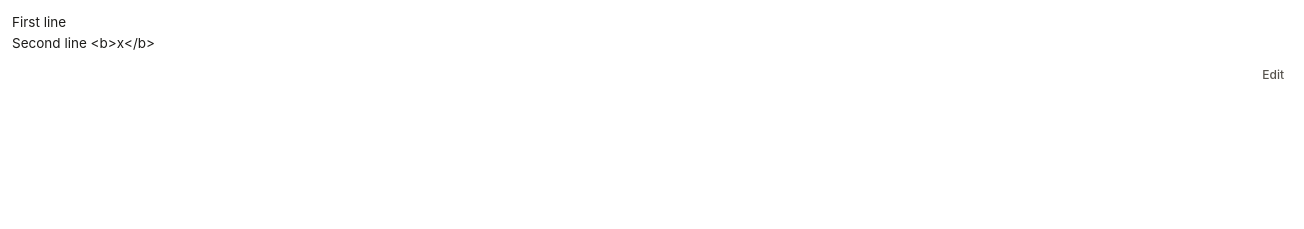
Scenario: TextAreaEditor: edit mode › a rejection keeps the draft in the editor with the error
The width and height of the screenshot is (1304, 229).
Later steps or results of the test are not shown.
Click the button with aria-label "Edit Description" at coordinates (1273, 75), box [1254,62,1292,88]
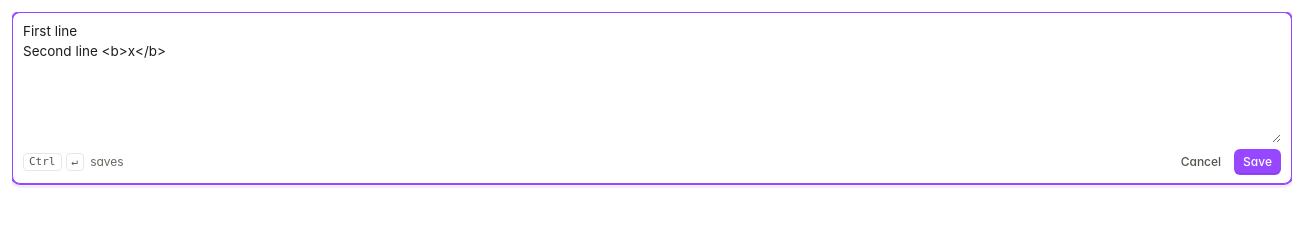
Replace the text in the text box named "Description" with "Will fail" at coordinates (652, 82), box [23,21,1281,142]
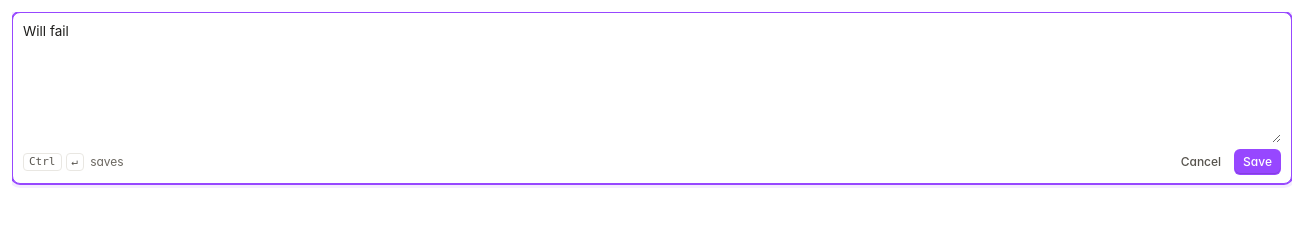
Click the button "Save" at coordinates (1258, 162), box [1234,148,1281,174]
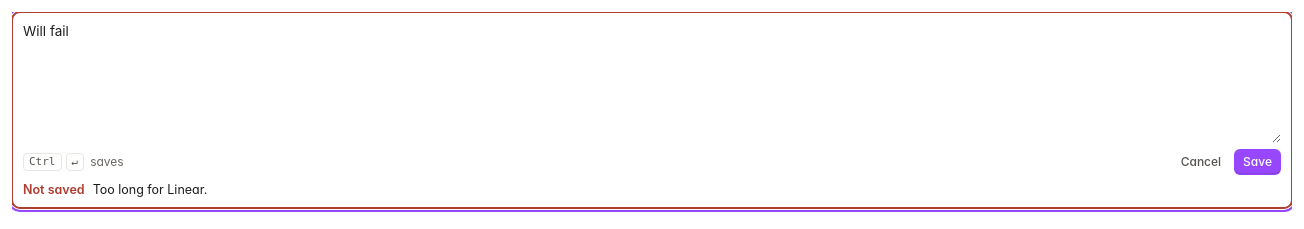
Now the message shows "Too long for Linear.", box [93,182,207,196]
